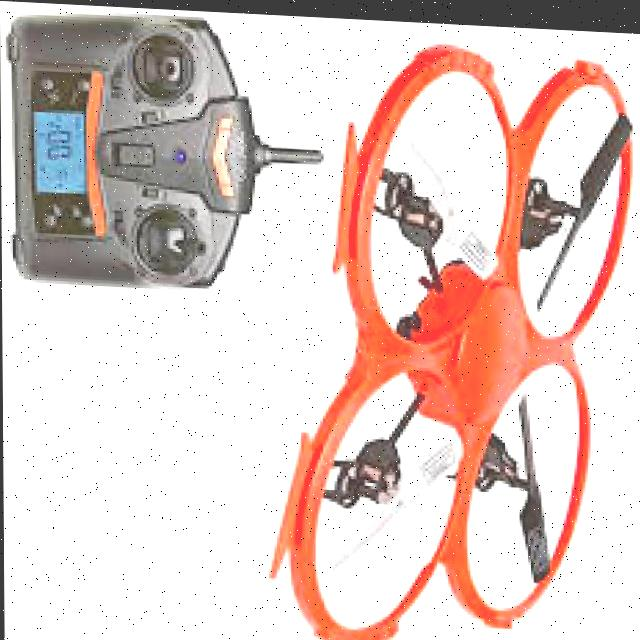drone: (255, 10, 640, 640)
